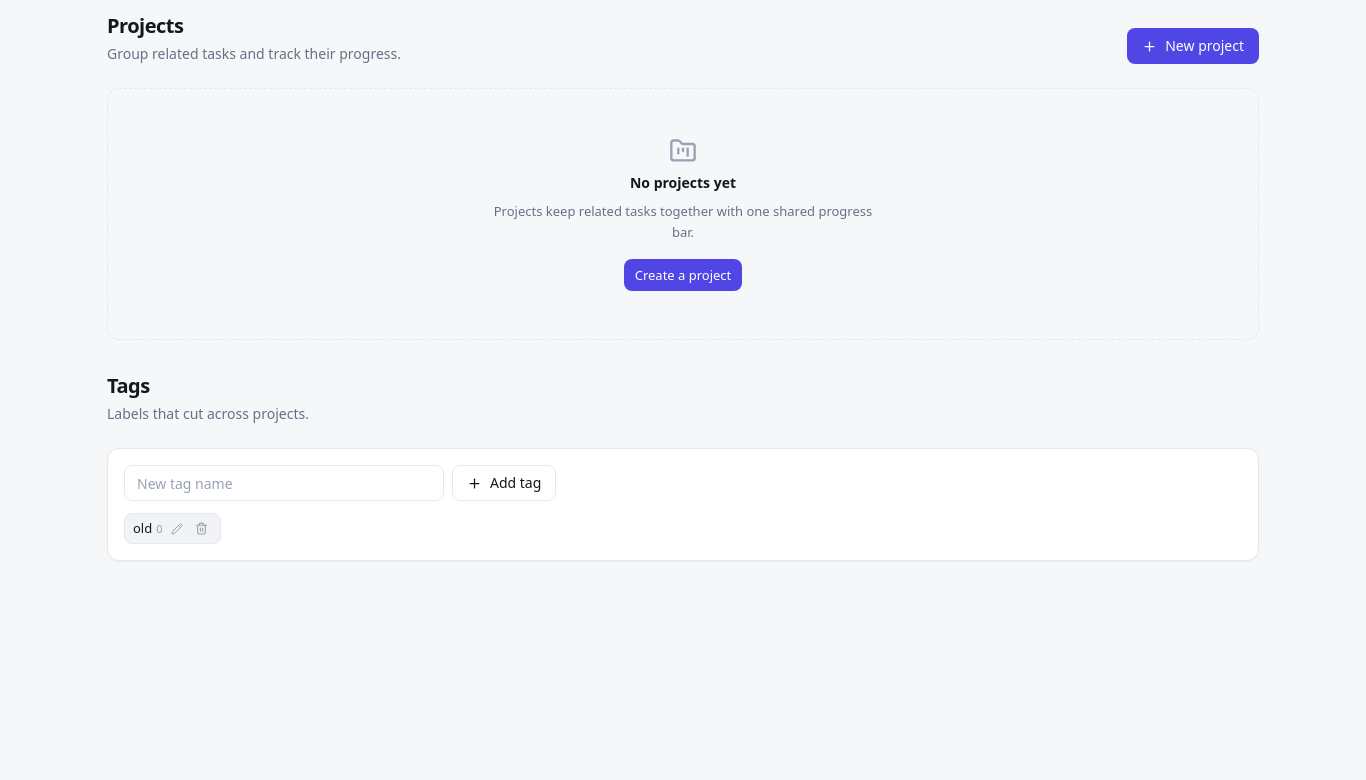
Test: tags panel › renames a tag
Click the button named "Rename tag old". click: (176, 529)
box: [166,519,186,539]
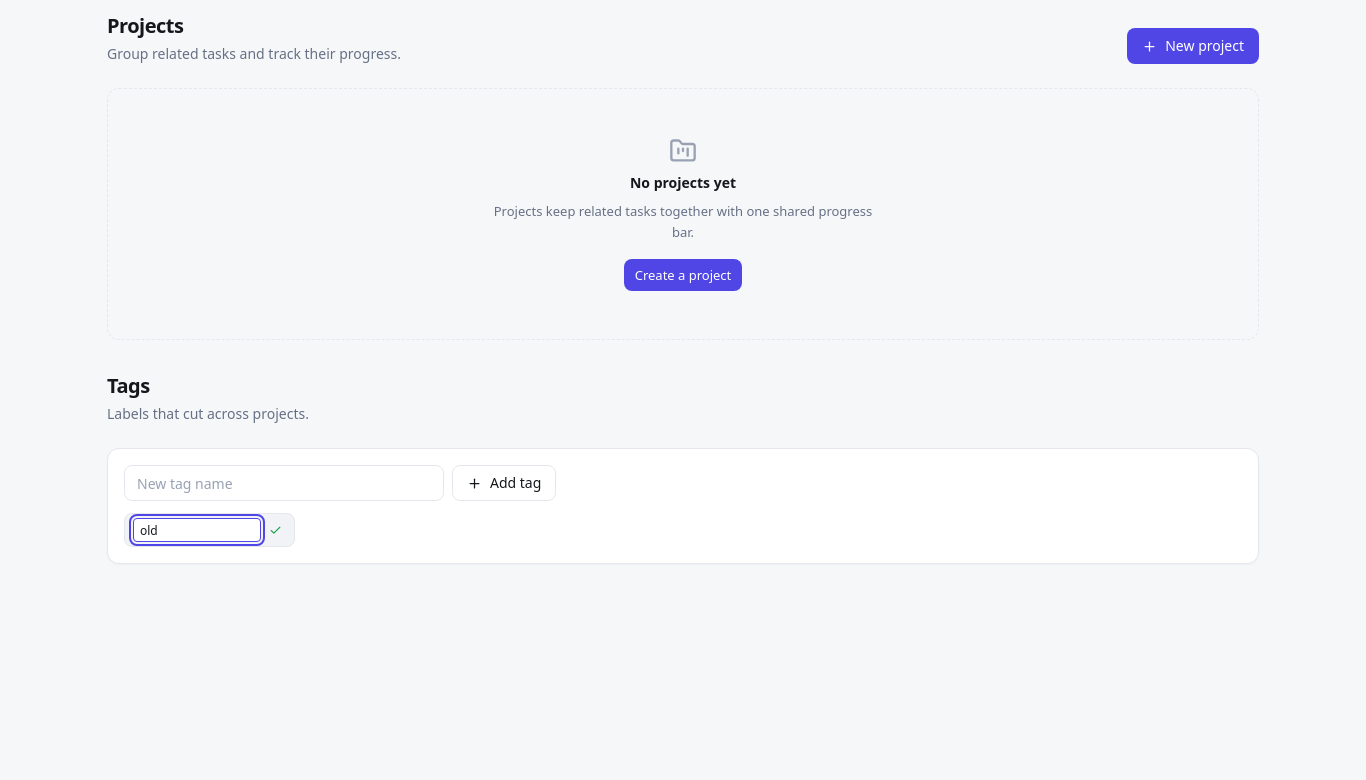
Replace the text in the field named "Rename old" with "renamed". click: (197, 530)
box: [133,518,261,542]
Then press Enter
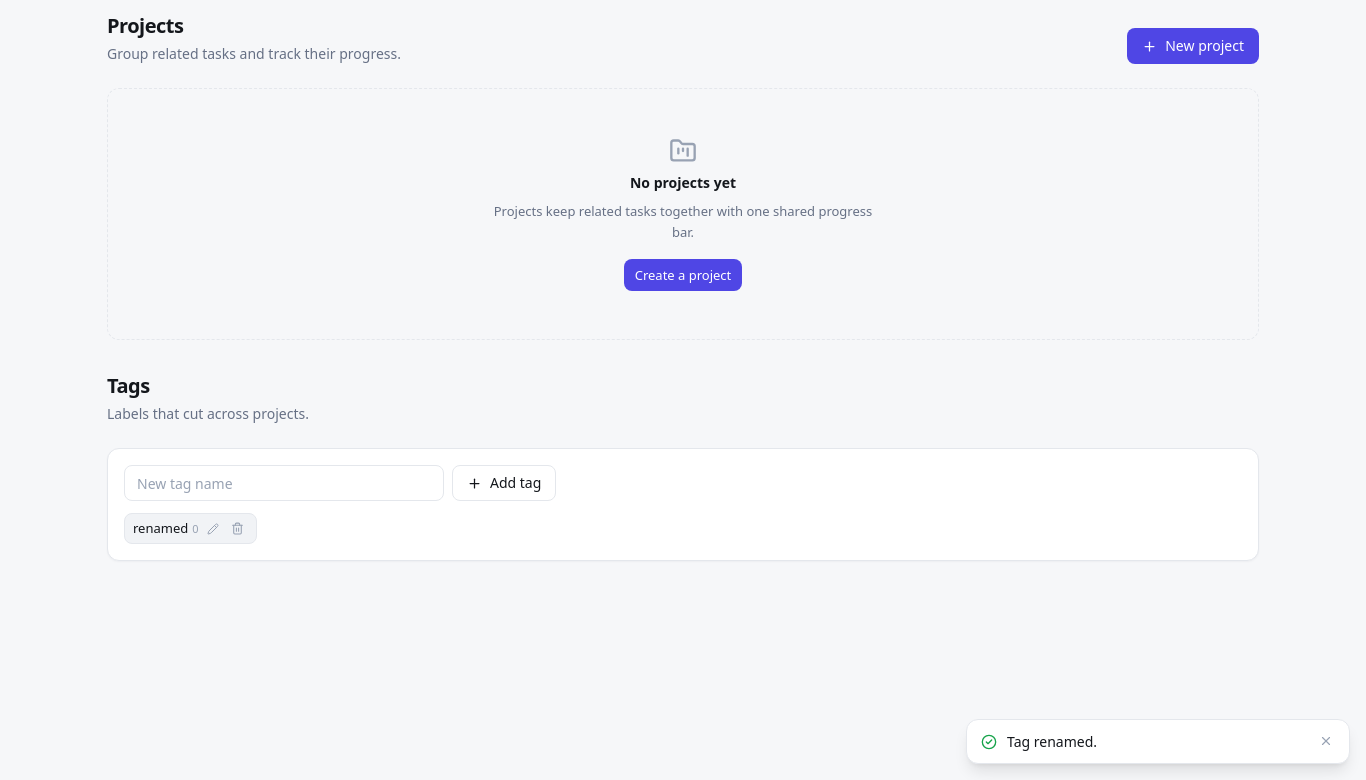
Result: the text "renamed" is shown at [133,519,188,538]
